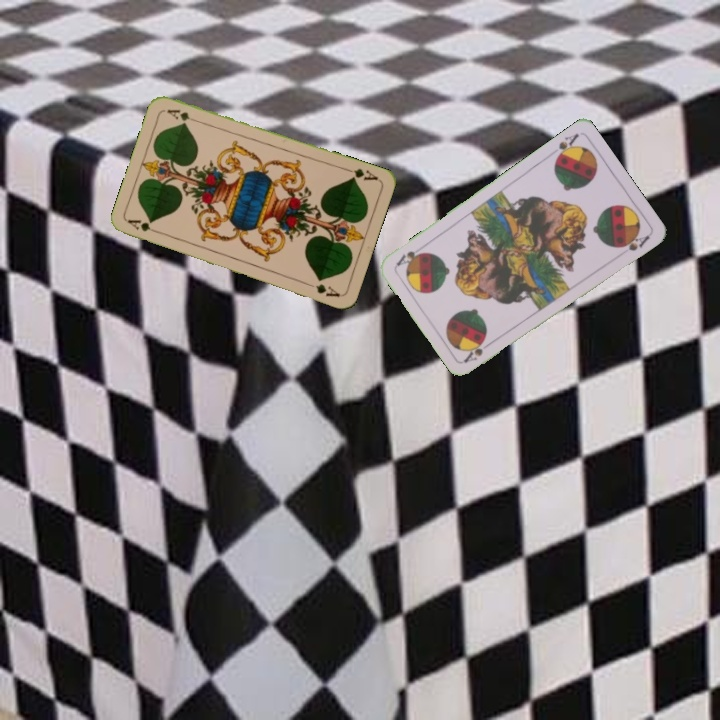GA: (124, 215, 164, 237), (341, 164, 381, 183)
SA: (551, 129, 581, 164), (460, 336, 496, 365)
